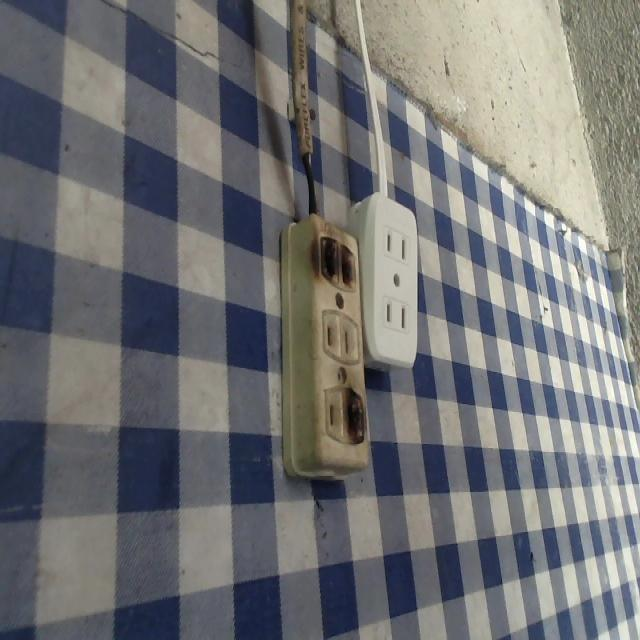-: (315, 230, 361, 294), (342, 389, 367, 448)
